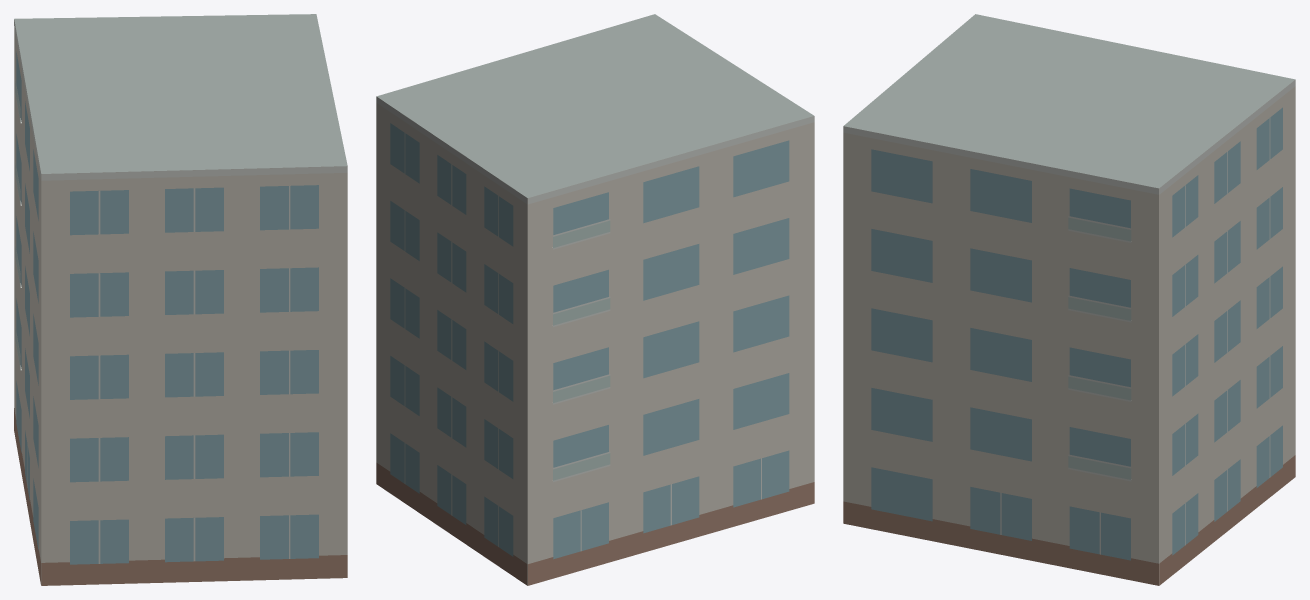
The model's file is survey-upis-32673507.glb.
3 renders of one model, left to right at view 1: azimuth 30°, elevation 25°; view 2: azimuth 150°, elevation 25°; view 3: azimuth 270°, elevation 25°, orthographic. The views are drawn at different scales.
Parts seen in each view (by area): view 1: survey-upis-32673507.tmp; view 2: survey-upis-32673507.tmp; view 3: survey-upis-32673507.tmp.
Part boxes in pixels (left/top/right/bottom): survey-upis-32673507.tmp: left=14, top=14, right=347, bottom=585; survey-upis-32673507.tmp: left=376, top=14, right=814, bottom=585; survey-upis-32673507.tmp: left=843, top=14, right=1295, bottom=585.
Size of the model in its own units: 14.13 by 15 by 15.48.
